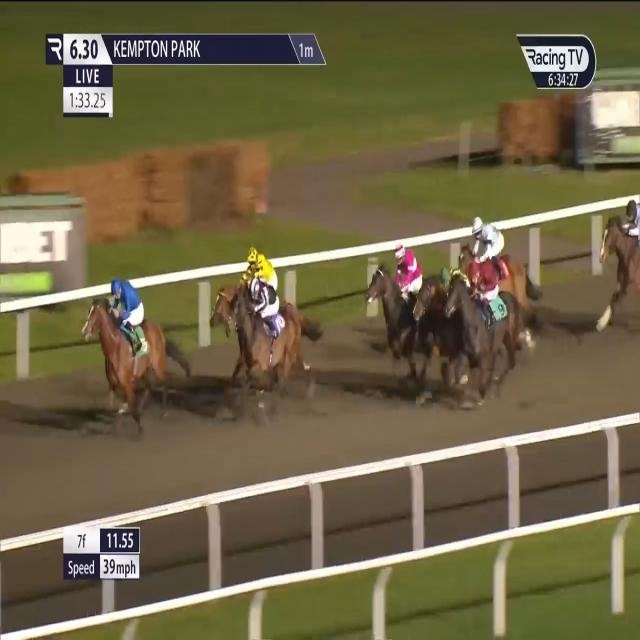horses-racing: (80, 275, 182, 421), (451, 262, 537, 410), (230, 276, 316, 396), (363, 243, 434, 360), (206, 244, 290, 338), (461, 218, 530, 307), (603, 198, 640, 336), (414, 262, 469, 351)
